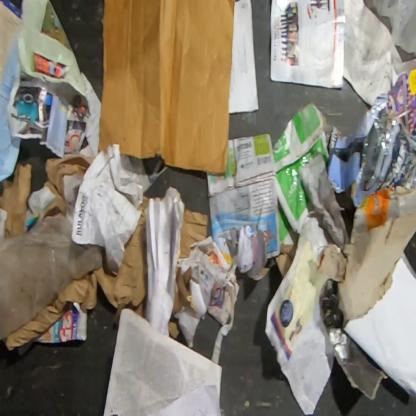cardboard: (98, 0, 236, 174), (316, 212, 415, 322), (326, 90, 415, 209), (272, 100, 330, 278), (320, 277, 390, 402), (349, 185, 415, 244)
rigid_plastic: (0, 197, 104, 343)
soft_plastic: (363, 0, 415, 59)
